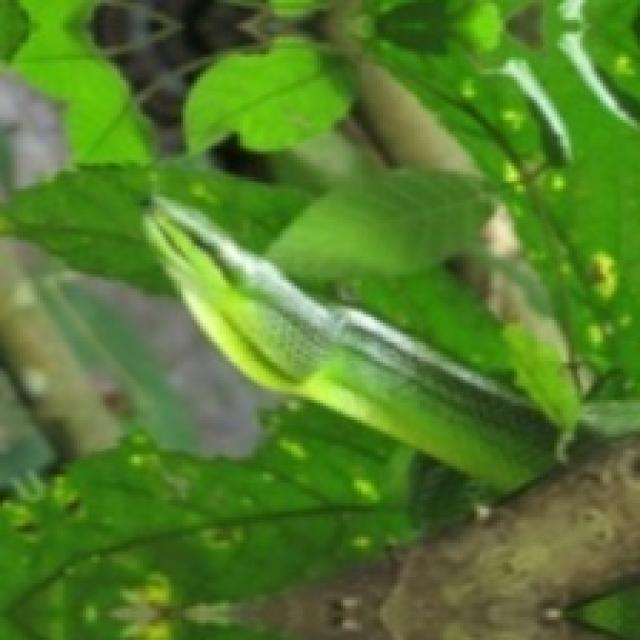red-tailed green ratsnake: (144, 199, 552, 487)
